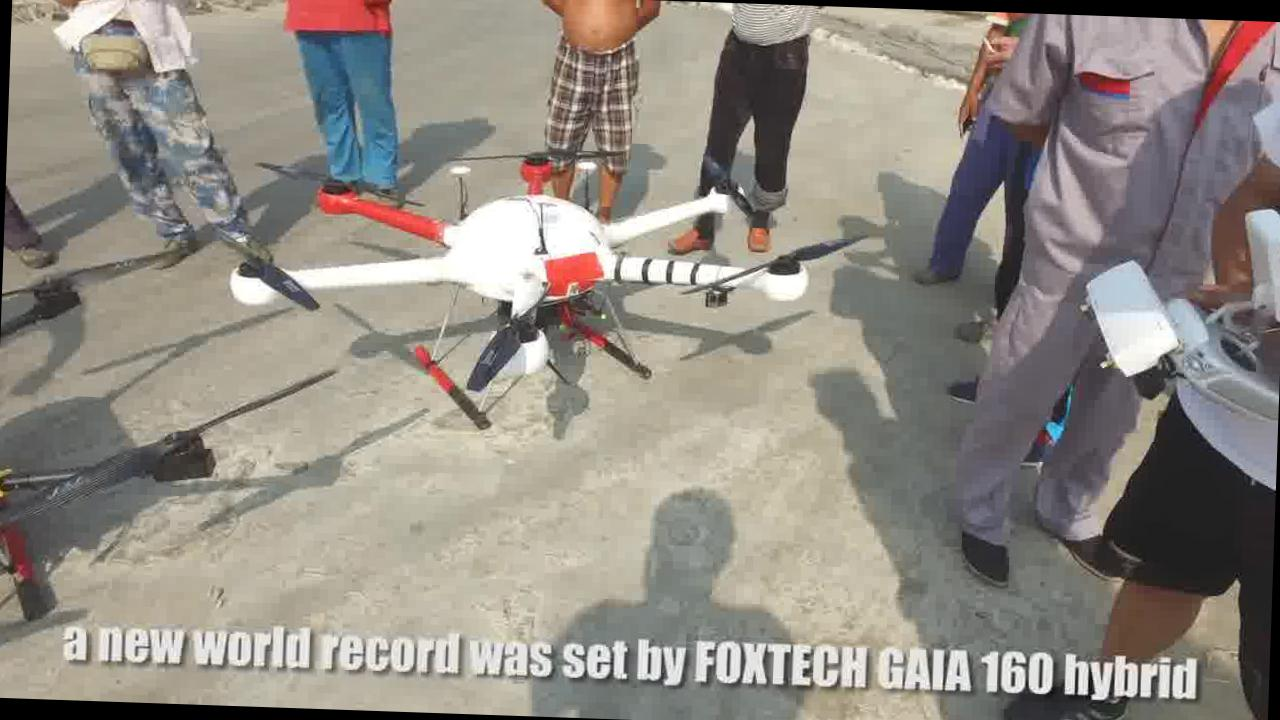drone: (223, 144, 838, 426)
